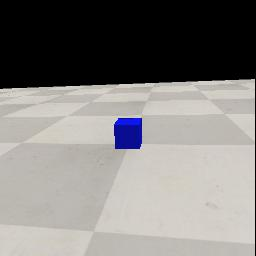box: (114, 118, 142, 149)
